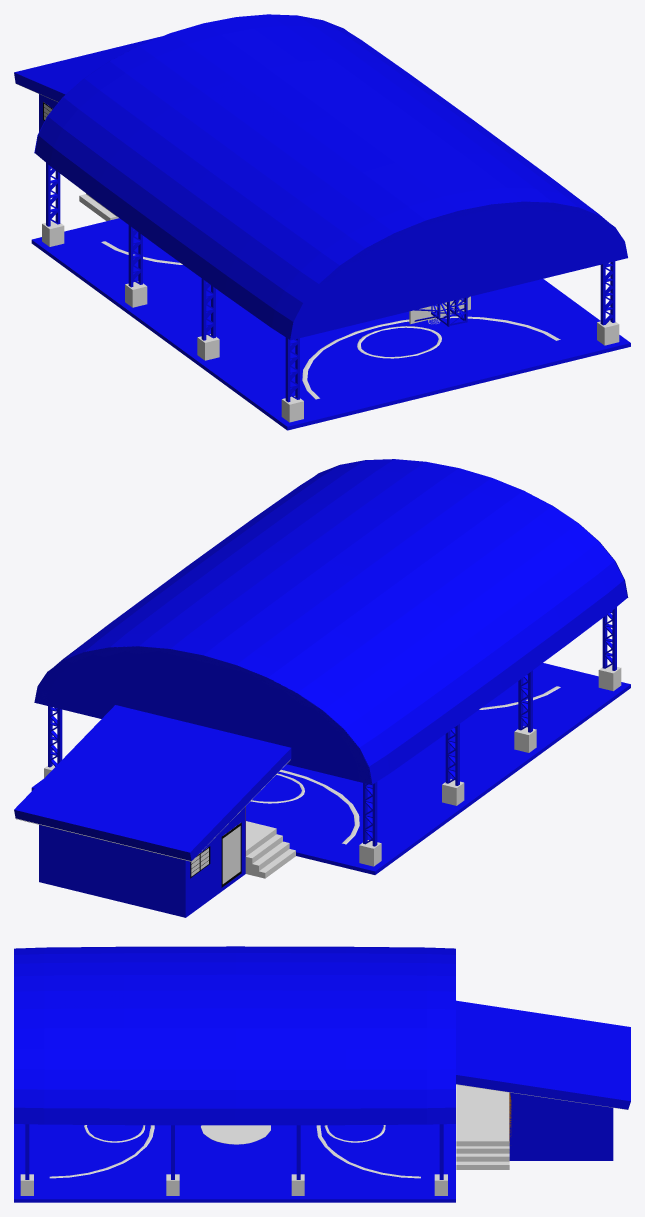
Rendered from batasanCourt.glb.
The picture shows the model from 3 angles, top to bottom: view 1: azimuth 30°, elevation 25°; view 2: azimuth 150°, elevation 25°; view 3: azimuth 270°, elevation 25°; orthographic projection. The views are drawn at different scales.
Parts seen in each view (by area): view 1: Circle.002; view 2: Circle.002; view 3: Circle.002.
Boxes of the visible parts, box(x1,y1,x2,y2) form: Circle.002: box(14, 14, 630, 430); Circle.002: box(14, 459, 630, 917); Circle.002: box(14, 946, 630, 1202).
Bounding box in the file's own units: 10 × 5 × 18.
